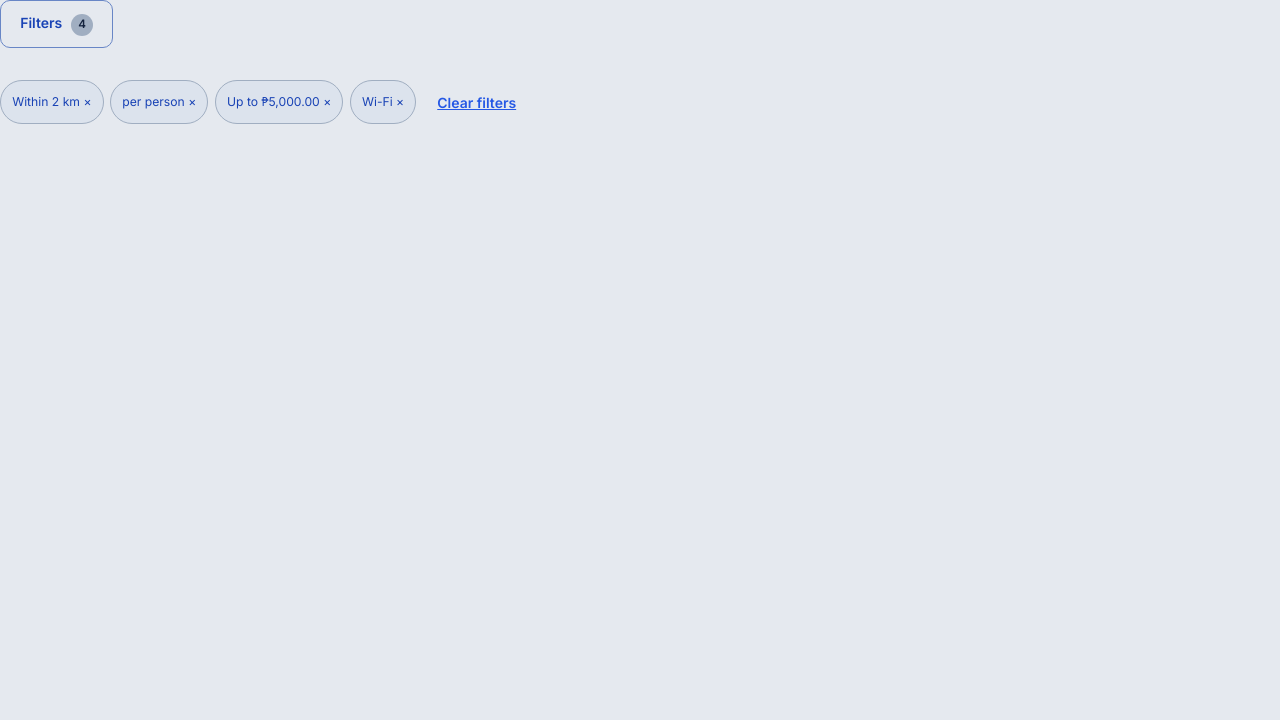
Test: discovery controls › clears the advanced draft until applied while retaining the separately selected campus
Later steps or results of the test are not shown.
Click the button "Filters 4" at (57, 24), box x1=0 y1=0 x2=113 y2=48
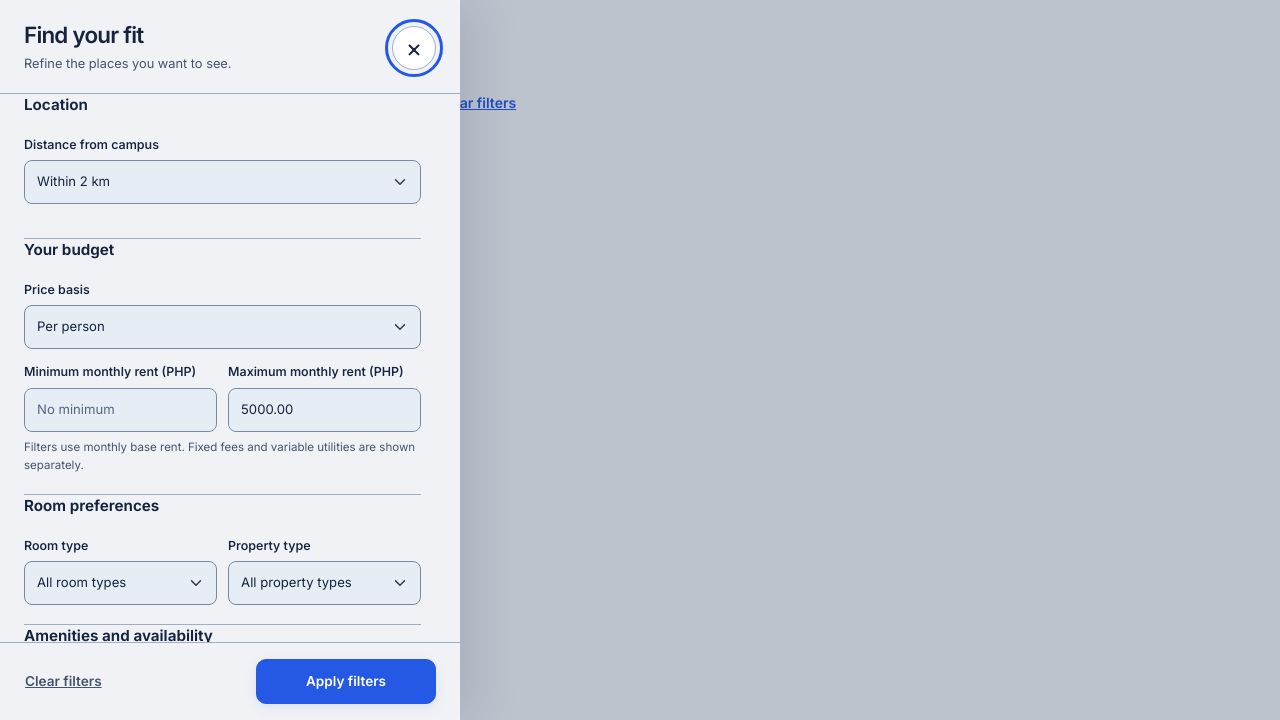
Click the button "Clear filters" at (73, 682), box x1=24 y1=659 x2=122 y2=704
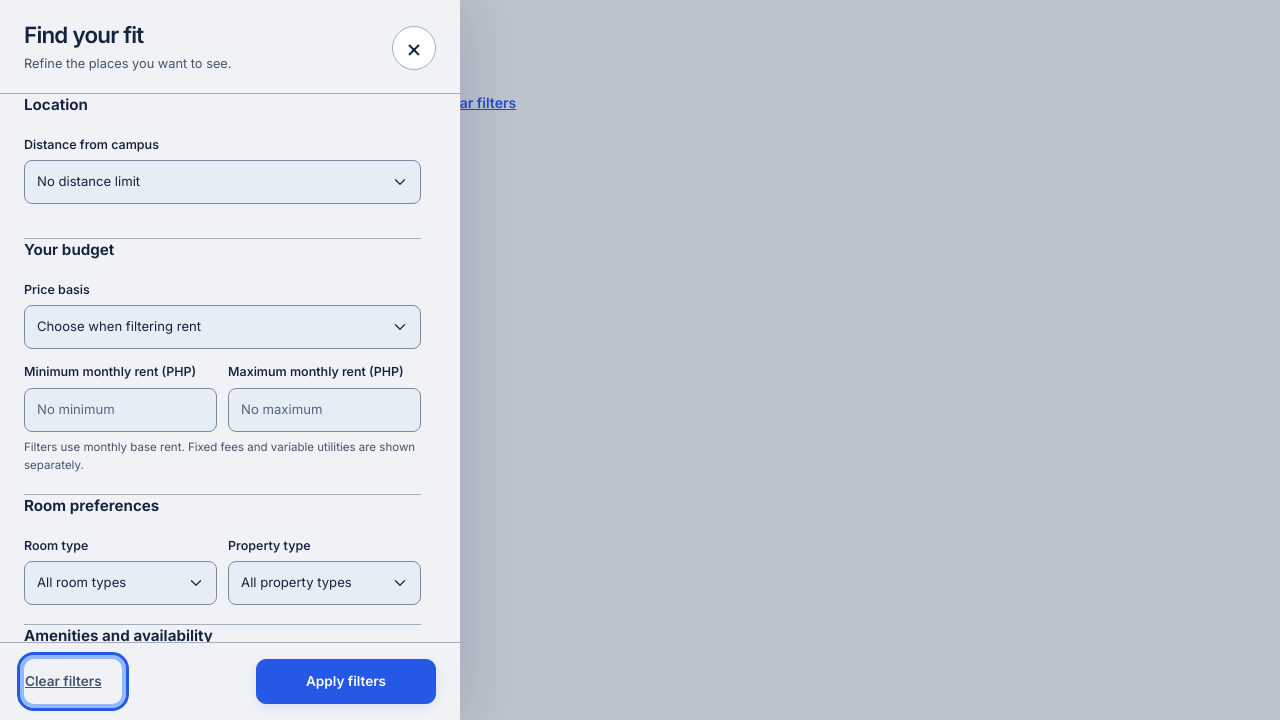
Expected: the field labelled "Maximum monthly rent (PHP)" is empty, x1=228 y1=388 x2=421 y2=432
